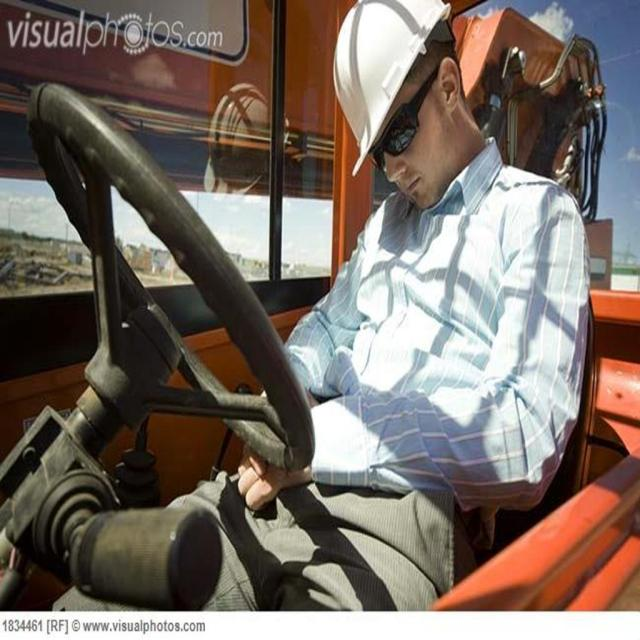nomask: (364, 54, 440, 212)
